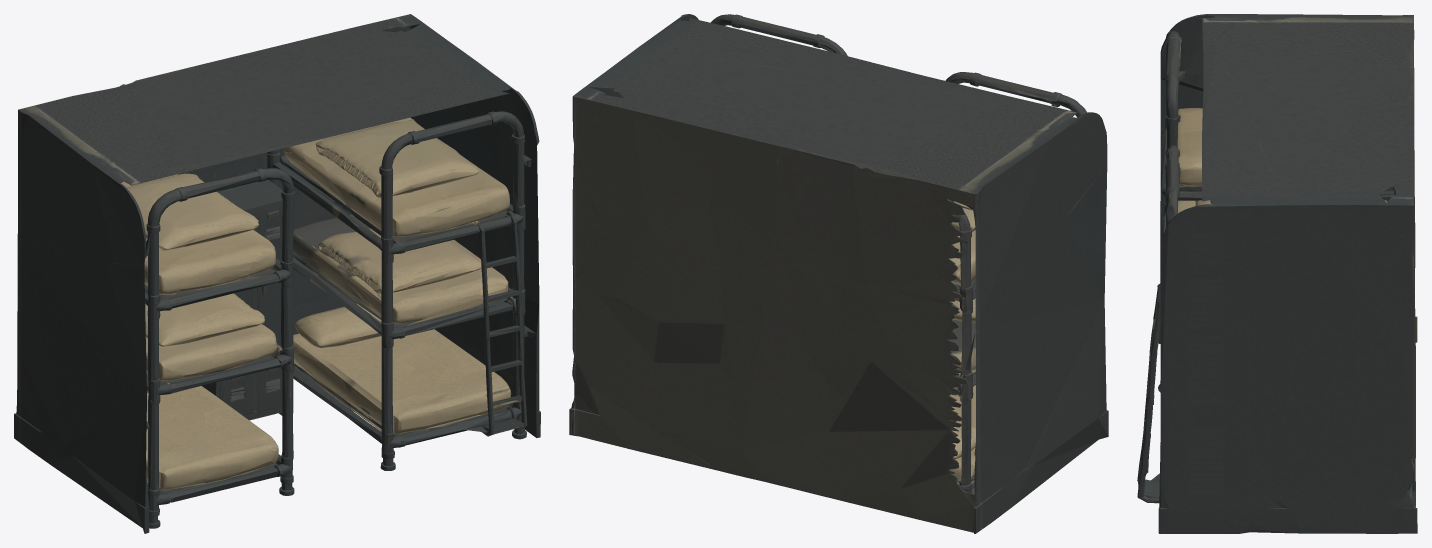
The model's file is bunks.glb.
The picture shows the model from 3 angles, left to right: view 1: azimuth 30°, elevation 25°; view 2: azimuth 150°, elevation 25°; view 3: azimuth 270°, elevation 25°; orthographic projection. The views are drawn at different scales.
Size of the model in its own units: 1.9 by 1.52 by 1.17.
Materials: 1 (1 with a texture image).
